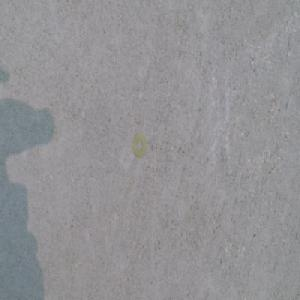Washer: (131, 134, 146, 159)
